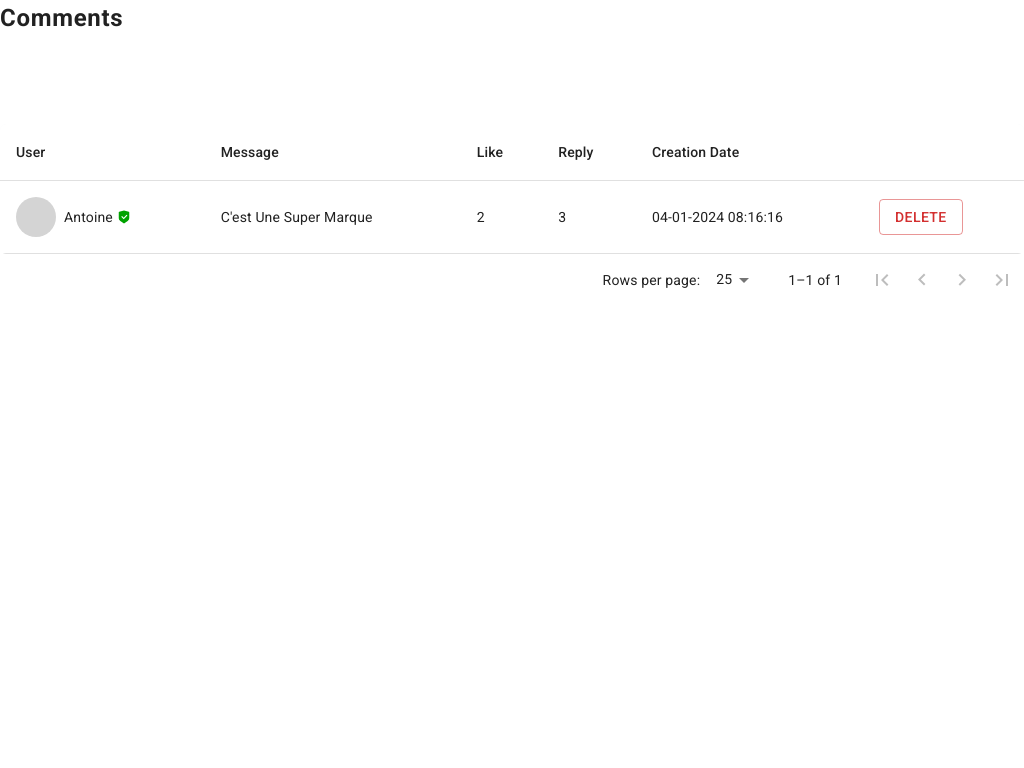
Test: Comments component › Comments button click › Prompt comments delete
Click the button "Delete" at (921, 217), box x1=879 y1=199 x2=963 y2=235
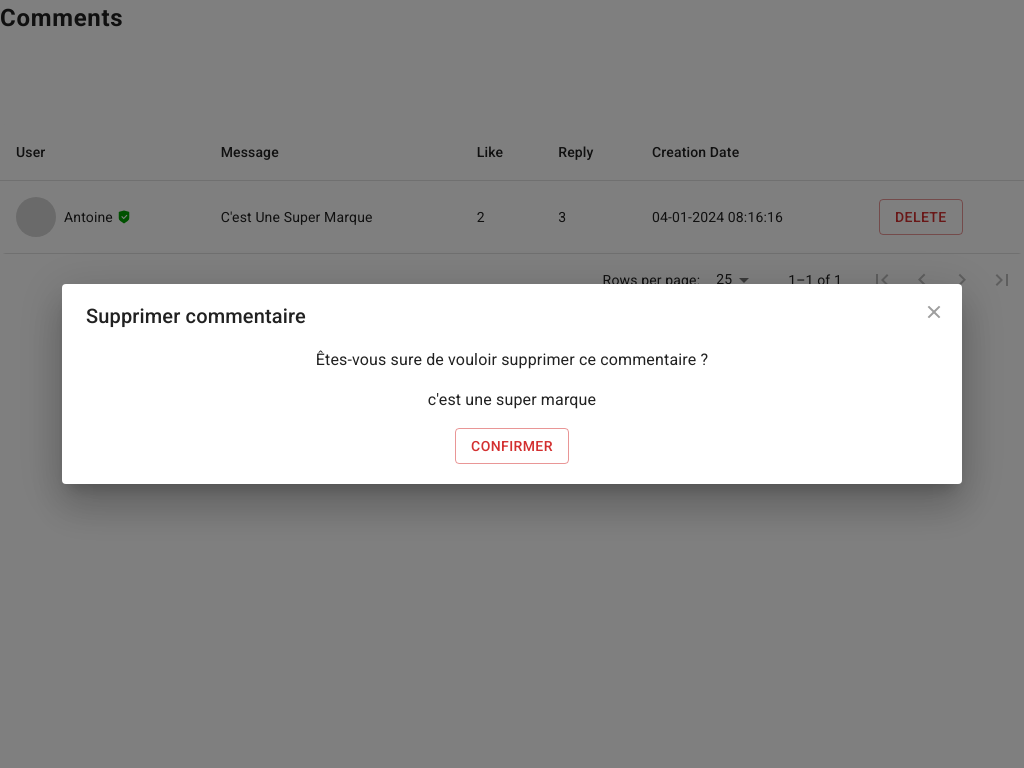
Result: the text "Êtes-vous sure de vouloir supprimer ce commentaire ?" is shown at x1=316 y1=348 x2=708 y2=372
Result: the button "Confirmer" is shown at x1=455 y1=428 x2=569 y2=464
